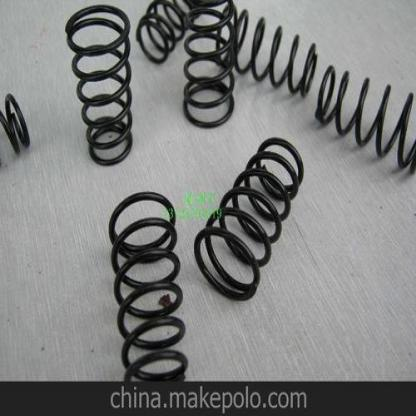FOD: (216, 2, 415, 181), (192, 131, 305, 304), (106, 184, 190, 394), (63, 0, 138, 167), (180, 0, 240, 132), (132, 0, 221, 65)
